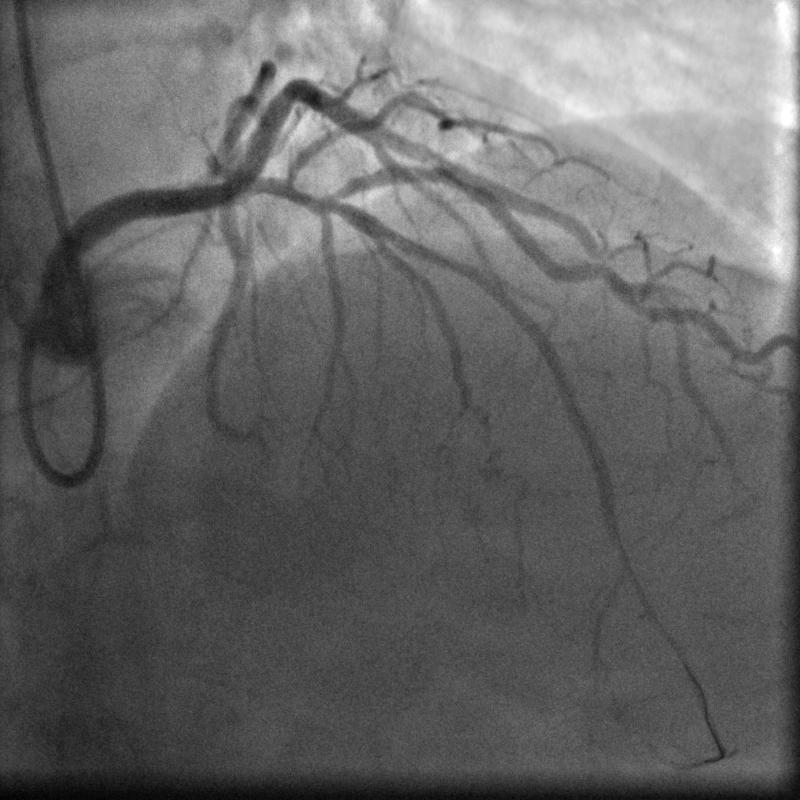Stenosis: (440, 164, 481, 199)
